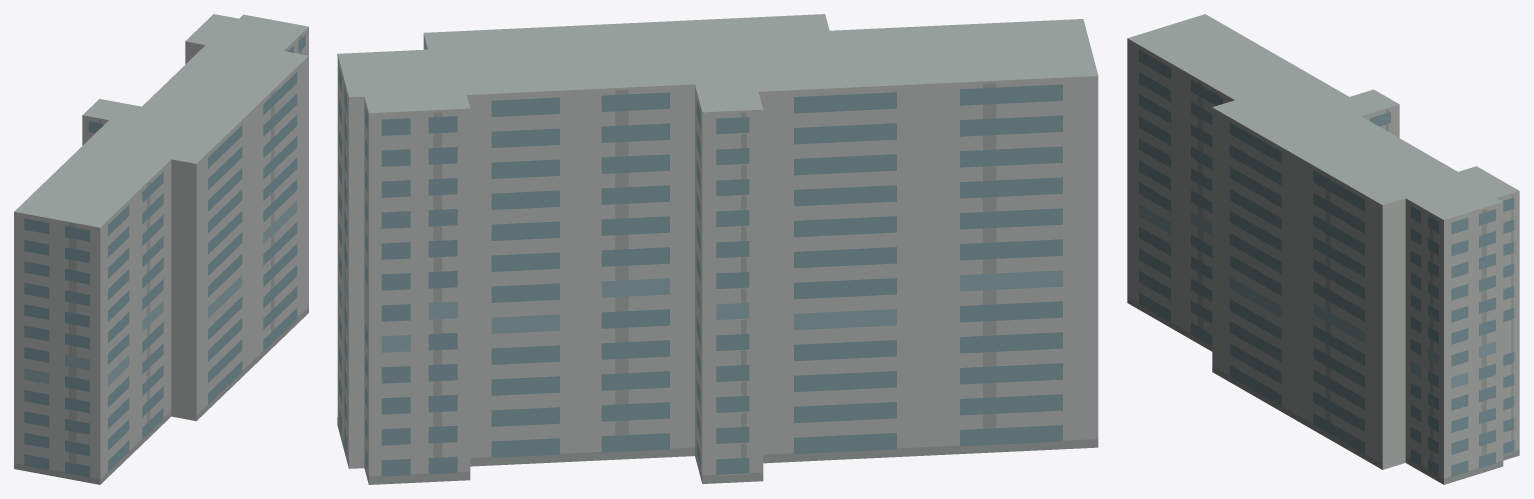
The model's file is residential-9d4f4b52-156b-4da5-8bda-af4b8c304ed1.glb.
The picture shows the model from 3 angles, left to right: view 1: azimuth 30°, elevation 25°; view 2: azimuth 150°, elevation 25°; view 3: azimuth 270°, elevation 25°; orthographic projection. The views are drawn at different scales.
Parts seen in each view (by area): view 1: residential-9d4f4b52-156b-4da5-8bda-af4b8c304ed1.tmp; view 2: residential-9d4f4b52-156b-4da5-8bda-af4b8c304ed1.tmp; view 3: residential-9d4f4b52-156b-4da5-8bda-af4b8c304ed1.tmp.
Boxes of the visible parts, x1,y1,x2,y2 form: residential-9d4f4b52-156b-4da5-8bda-af4b8c304ed1.tmp: (14, 14, 308, 484); residential-9d4f4b52-156b-4da5-8bda-af4b8c304ed1.tmp: (337, 14, 1098, 484); residential-9d4f4b52-156b-4da5-8bda-af4b8c304ed1.tmp: (1127, 14, 1519, 484).
Size of the model in its own units: 61.16 by 36.6 by 49.16.
